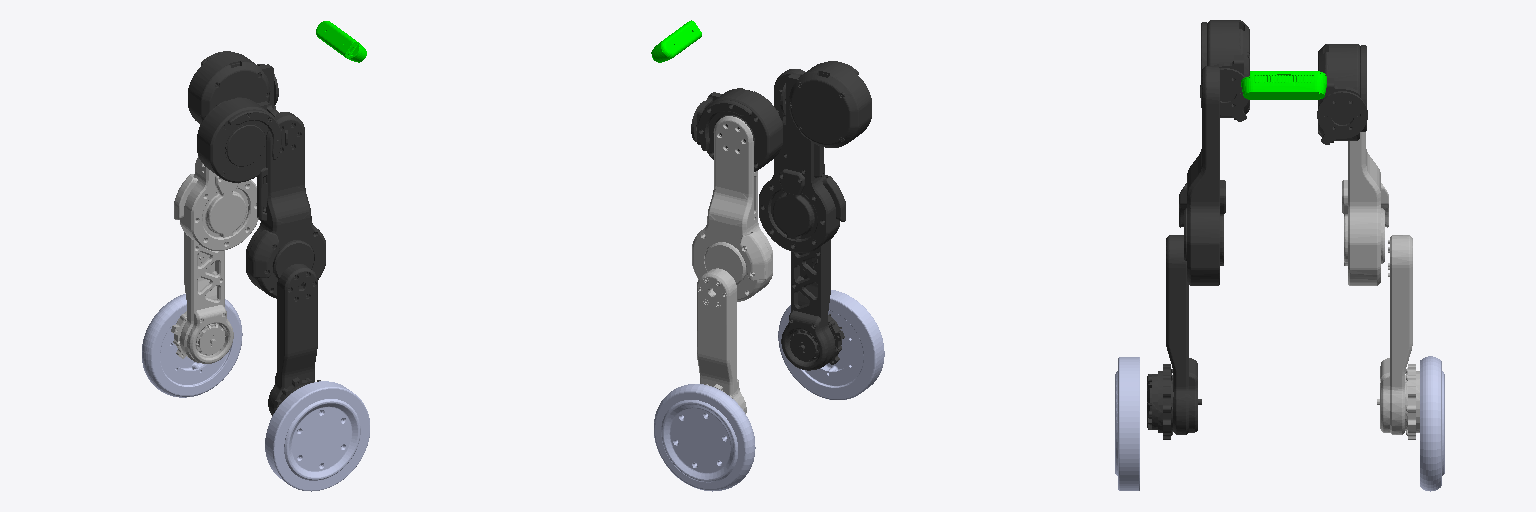
The robot description file, URDF, robot "pineapple":
<?xml version="1.0" encoding="utf-8"?>
<!-- This URDF was automatically created by SolidWorks to URDF Exporter! Originally created by Stephen Brawner (brawner@gmail.com) 
     Commit Version: 1.6.0-4-g7f85cfe  Build Version: 1.6.7995.38578
     For more information, please see http://wiki.ros.org/sw_urdf_exporter -->
<robot
  name="pineapple">
  <mujoco>
    <compiler
      meshdir="package://v1/meshes"
      balanceinertia="true"
      discardvisual="false" />
  </mujoco>
  <link
    name="base_link">
    <inertial>
      <origin
        xyz="-0.01551464 0.00128628 0.04323478"
        rpy="0 0 0" />
      <mass
        value="3.64" />
      <inertia
        ixx="0.01183585"
        ixy="0.00039823"
        ixz="0.00802516"
        iyy="0.01979765"
        iyz="-0.00055870"
        izz="0.00863159" />
    </inertial>
    <visual>
      <origin
        xyz="0 0 0"
        rpy="0 0 0" />
      <geometry>
        <mesh
          filename="package://v1/meshes/base_link.STL" />
      </geometry>
      <material
        name="">
        <color
          rgba="0.752941176470588 0.752941176470588 0.752941176470588 1" />
      </material>
    </visual>
    <collision>
      <origin
        xyz="0 0 0"
        rpy="0 0 0" />
      <geometry>
        <mesh
          filename="package://v1/meshes/base_collision.STL" />
      </geometry>
    </collision>
  </link>
  <link
    name="imu_link">
    <inertial>
      <origin
        xyz="0 0 0"
        rpy="0 0 0" />
      <mass
        value="0.1" />
    </inertial>
  </link>
  <joint
    name="imu_joint"
    type="fixed">
    <origin
      xyz="0 0 0"
      rpy="0 0 0" />
    <parent
      link="base_link" />
    <child
      link="imu_link" />
    <axis
      xyz="0 0 0" />
  </joint>
  <link
    name="cam">
    <inertial>
      <origin
        xyz="0 0 0"
        rpy="0 0 0" />
      <mass
        value="0.3" />
      <inertia
        ixx="0.00018085"
        ixy="0.00000269"
        ixz="0.00000005"
        iyy="0.00002720"
        iyz="-0.0000001"
        izz="0.00018280" />
    </inertial>
    <visual>
      <origin
        xyz="0 0 0"
        rpy="0 0 0" />
      <geometry>
        <mesh
          filename="package://v1/meshes/cam.STL" />
      </geometry>
      <material
        name="">
        <color
          rgba="0 1 0 1" />
      </material>
    </visual>
  </link>
  <joint
    name="cam_joint"
    type="fixed">
    <origin
      xyz="0.136663127592924 0 0.125539913353642"
      rpy="0 0.698131700797732 0" />
    <parent
      link="base_link" />
    <child
      link="cam" />
    <axis
      xyz="0 0 0" />
  </joint>
  <link
    name="L_hip">
    <inertial>
      <origin
        xyz="0.00220657 -0.00275734 0.00000000"
        rpy="0 0 0" />
      <mass
        value="0.573" />
      <inertia
        ixx="0.00058596"
        ixy="-0.00000308"
        ixz="0.00000087"
        iyy="0.00092932"
        iyz="-0.0000001"
        izz="0.00066651" />
    </inertial>
    <visual>
      <origin
        xyz="0 0 0"
        rpy="0 0 0" />
      <geometry>
        <mesh
          filename="package://v1/meshes/L_hip.STL" />
      </geometry>
      <material
        name="">
        <color
          rgba="0.27843137254902 0.27843137254902 0.27843137254902 1" />
      </material>
    </visual>
  </link>
  <joint
    name="L_hip_joint"
    type="revolute">
    <origin
      xyz="0 0.06125 0.065999999287065"
      rpy="0 0 0" />
    <parent
      link="base_link" />
    <child
      link="L_hip" />
    <axis
      xyz="1 0 0" />
  </joint>
  <link
    name="L_thigh">
    <inertial>
      <origin
        xyz="-0.00003518 0.02442297 -0.11773718"
        rpy="0 0 0" />
      <mass
        value="0.75" />
      <inertia
        ixx="0.00538265"
        ixy="0.00000040"
        ixz="-0.00000270"
        iyy="0.00561736"
        iyz="0.00033393"
        izz="0.00058450" />
    </inertial>
    <visual>
      <origin
        xyz="0 0 0"
        rpy="0 0 0" />
      <geometry>
        <mesh
          filename="package://v1/meshes/L_thigh.STL" />
      </geometry>
      <material
        name="">
        <color
          rgba="0.752941176470588 0.752941176470588 0.752941176470588 1" />
      </material>
    </visual>
    <collision>
      <origin
        xyz="0 0 0"
        rpy="0 0 0" />
      <geometry>
        <mesh
          filename="package://v1/meshes/L_thigh_collision.STL" />
      </geometry>
    </collision>
  </link>
  <joint
    name="L_thigh_joint"
    type="revolute">
    <origin
      xyz="0 0.0129353215081658 0"
      rpy="0 0 0" />
    <parent
      link="L_hip" />
    <child
      link="L_thigh" />
    <axis
      xyz="0 1 0" />
  </joint>
  <link
    name="L_calf">
    <inertial>
      <origin
        xyz="-0.00006785 0.03201549 -0.12089196"
        rpy="0 0 0" />
      <mass
        value="0.5" />
      <inertia
        ixx="0.00341614"
        ixy="-0.00000025"
        ixz="0.00000147"
        iyy="0.00347554"
        iyz="-0.00000899"
        izz="0.00019863" />
    </inertial>
    <visual>
      <origin
        xyz="0 0 0"
        rpy="0 0 0" />
      <geometry>
        <mesh
          filename="package://v1/meshes/L_calf.STL" />
      </geometry>
      <material
        name="">
        <color
          rgba="0.752941176470588 0.752941176470588 0.752941176470588 1" />
      </material>
    </visual>
    <collision>
      <origin
        xyz="0 0 0"
        rpy="0 0 0" />
      <geometry>
        <mesh
          filename="package://v1/meshes/L_calf_collision.STL" />
      </geometry>
    </collision>
  </link>
  <joint
    name="L_calf_joint"
    type="revolute">
    <origin
      xyz="0 0.035931787557176 -0.190000001217773"
      rpy="0 0 0" />
    <parent
      link="L_thigh" />
    <child
      link="L_calf" />
    <axis
      xyz="0 1 0" />
  </joint>
  <link
    name="L_wheel">
    <inertial>
      <origin
        xyz="0.00000000 0.01250277 0.00000000"
        rpy="0 0 0" />
      <mass
        value="0.305" />
      <inertia
        ixx="0.00053977"
        ixy="-0.0000001"
        ixz="-0.0000001"
        iyy="0.00105426"
        iyz="-0.0000001"
        izz="0.00053978" />
    </inertial>
    <visual>
      <origin
        xyz="0 0 0"
        rpy="0 0 0" />
      <geometry>
        <mesh
          filename="package://v1/meshes/L_wheel.STL" />
      </geometry>
      <material
        name="">
        <color
          rgba="0.792156862745098 0.819607843137255 0.933333333333333 1" />
      </material>
    </visual>
    <collision>
        <origin xyz="0 0.013 0" rpy="1.5708 0 0"/>
        <geometry>
          <cylinder radius="0.075" length="0.026"/>
        </geometry>
    </collision>
  </link>
  <joint
    name="L_wheel_joint"
    type="revolute">
    <origin
      xyz="0 0.0421817504179199 -0.190000000000001"
      rpy="0 0 0" />
    <parent
      link="L_calf" />
    <child
      link="L_wheel" />
    <axis
      xyz="0 1 0" />
  </joint>
  <link
    name="R_hip">
    <inertial>
      <origin
        xyz="0.00220657 0.00275734 0.00000000"
        rpy="0 0 0" />
      <mass
        value="0.573" />
      <inertia
        ixx="0.00058596"
        ixy="0.00000308"
        ixz="0.00000087"
        iyy="0.00092932"
        iyz="-0.0000001"
        izz="0.00066651" />
    </inertial>
    <visual>
      <origin
        xyz="0 0 0"
        rpy="0 0 0" />
      <geometry>
        <mesh
          filename="package://v1/meshes/R_hip.STL" />
      </geometry>
      <material
        name="">
        <color
          rgba="0.27843137254902 0.27843137254902 0.27843137254902 1" />
      </material>
    </visual>
  </link>
  <joint
    name="R_hip_joint"
    type="revolute">
    <origin
      xyz="0 -0.06125 0.065999999287065"
      rpy="0 0 0" />
    <parent
      link="base_link" />
    <child
      link="R_hip" />
    <axis
      xyz="1 0 0" />
  </joint>
  <link
    name="R_thigh">
    <inertial>
      <origin
        xyz="-0.00003518 -0.02442297 -0.11773718"
        rpy="0 0 0" />
      <mass
        value="0.75" />
      <inertia
        ixx="0.00538265"
        ixy="-0.00000040"
        ixz="-0.00000270"
        iyy="0.00561736"
        iyz="-0.00033393"
        izz="0.00058450" />
    </inertial>
    <visual>
      <origin
        xyz="0 0 0"
        rpy="0 0 0" />
      <geometry>
        <mesh
          filename="package://v1/meshes/R_thigh.STL" />
      </geometry>
      <material
        name="">
        <color
          rgba="0.27843137254902 0.27843137254902 0.27843137254902 1" />
      </material>
    </visual>
    <collision>
      <origin
        xyz="0 0 0"
        rpy="0 0 0" />
      <geometry>
        <mesh
          filename="package://v1/meshes/R_thigh_collision.STL" />
      </geometry>
    </collision>
  </link>
  <joint
    name="R_thigh_joint"
    type="revolute">
    <origin
      xyz="0 -0.0129353215081658 0"
      rpy="0 0 0" />
    <parent
      link="R_hip" />
    <child
      link="R_thigh" />
    <axis
      xyz="0 1 0" />
  </joint>
  <link
    name="R_calf">
    <inertial>
      <origin
        xyz="-0.00006785 -0.03201549 -0.12089196"
        rpy="0 0 0" />
      <mass
        value="0.5" />
      <inertia
        ixx="0.00341614"
        ixy="0.00000025"
        ixz="0.00000147"
        iyy="0.00347554"
        iyz="0.00000899"
        izz="0.00019863" />
    </inertial>
    <visual>
      <origin
        xyz="0 0 0"
        rpy="0 0 0" />
      <geometry>
        <mesh
          filename="package://v1/meshes/R_calf.STL" />
      </geometry>
      <material
        name="">
        <color
          rgba="0.27843137254902 0.27843137254902 0.27843137254902 1" />
      </material>
    </visual>
    <collision>
      <origin
        xyz="0 0 0"
        rpy="0 0 0" />
      <geometry>
        <mesh
          filename="package://v1/meshes/R_calf_collision.STL" />
      </geometry>
    </collision>
  </link>
  <joint
    name="R_calf_joint"
    type="revolute">
    <origin
      xyz="0 -0.035931787557176 -0.190000001217773"
      rpy="0 0 0" />
    <parent
      link="R_thigh" />
    <child
      link="R_calf" />
    <axis
      xyz="0 1 0" />
  </joint>
  <link
    name="R_wheel">
    <inertial>
      <origin
        xyz="0.00000000 -0.01250277 0.00000000"
        rpy="0 0 0" />
      <mass
        value="0.305" />
      <inertia
        ixx="0.00053977"
        ixy="-0.0000001"
        ixz="-0.0000001"
        iyy="0.00105426"
        iyz="-0.0000001"
        izz="0.00053978" />
    </inertial>
    <visual>
      <origin
        xyz="0 0 0"
        rpy="0 0 0" />
      <geometry>
        <mesh
          filename="package://v1/meshes/R_wheel.STL" />
      </geometry>
      <material
        name="">
        <color
          rgba="0.792156862745098 0.819607843137255 0.933333333333333 1" />
      </material>
    </visual>
    <collision>
      <origin xyz="0 -0.013 0" rpy="1.5708 0 0"/>
      <geometry>
        <cylinder radius="0.075" length="0.026"/>
      </geometry>
    </collision>
  </link>
  <joint
    name="R_wheel_joint"
    type="revolute">
    <origin
      xyz="0 -0.0421817504179163 -0.190000000000001"
      rpy="0 0 0" />
    <parent
      link="R_calf" />
    <child
      link="R_wheel" />
    <axis
      xyz="0 1 0" />
  </joint>
</robot>

--- What the picture shows (computed from the rendered views, not written in the file) ---
3 views of the same robot in one strip: view 1: azimuth 30°, elevation 25°; view 2: azimuth 150°, elevation 25°; view 3: azimuth 270°, elevation 25° (orthographic).
Model pineapple with 11 links and 10 joints (8 revolute, 2 fixed), rooted at base_link, posed all joints at 0.
Visible links, largest first — view 1: R_wheel, R_thigh, R_hip, L_calf, L_thigh, R_calf, L_wheel, L_hip, cam; view 2: L_thigh, L_wheel, R_thigh, R_hip, R_calf, R_wheel, L_calf, L_hip, cam; view 3: R_thigh, R_calf, L_calf, L_thigh, L_hip, R_hip, R_wheel, L_wheel, cam.
Link boxes in pixels (x1,y1,x2,y2): R_wheel: (265, 381, 369, 491); R_thigh: (246, 112, 325, 298); R_hip: (197, 97, 287, 182); L_calf: (171, 232, 233, 363); L_thigh: (174, 156, 258, 250); R_calf: (268, 264, 320, 415); L_wheel: (142, 294, 242, 397); L_hip: (188, 51, 278, 124); cam: (316, 21, 366, 62); L_thigh: (692, 116, 772, 301); L_wheel: (654, 384, 755, 491); R_thigh: (759, 69, 845, 252); R_hip: (780, 61, 871, 147); R_calf: (781, 239, 844, 370); R_wheel: (778, 290, 884, 399); L_calf: (697, 268, 746, 413); L_hip: (691, 88, 782, 171); cam: (651, 20, 701, 62); R_thigh: (1179, 66, 1225, 285); R_calf: (1147, 235, 1201, 439); L_calf: (1377, 235, 1419, 439); L_thigh: (1342, 132, 1388, 285); L_hip: (1317, 44, 1367, 144); R_hip: (1200, 20, 1249, 121); R_wheel: (1115, 357, 1139, 490); L_wheel: (1420, 356, 1444, 491); cam: (1241, 71, 1326, 99).
Bounding box of the posed robot: 0.2491 × 0.3421 × 0.5334 m (x, y, z).
Meshes: 10 distinct files referenced, 9 mesh visuals loaded (9 binary STL); not drawn: 1 (reference not matched to a file when rendering).
